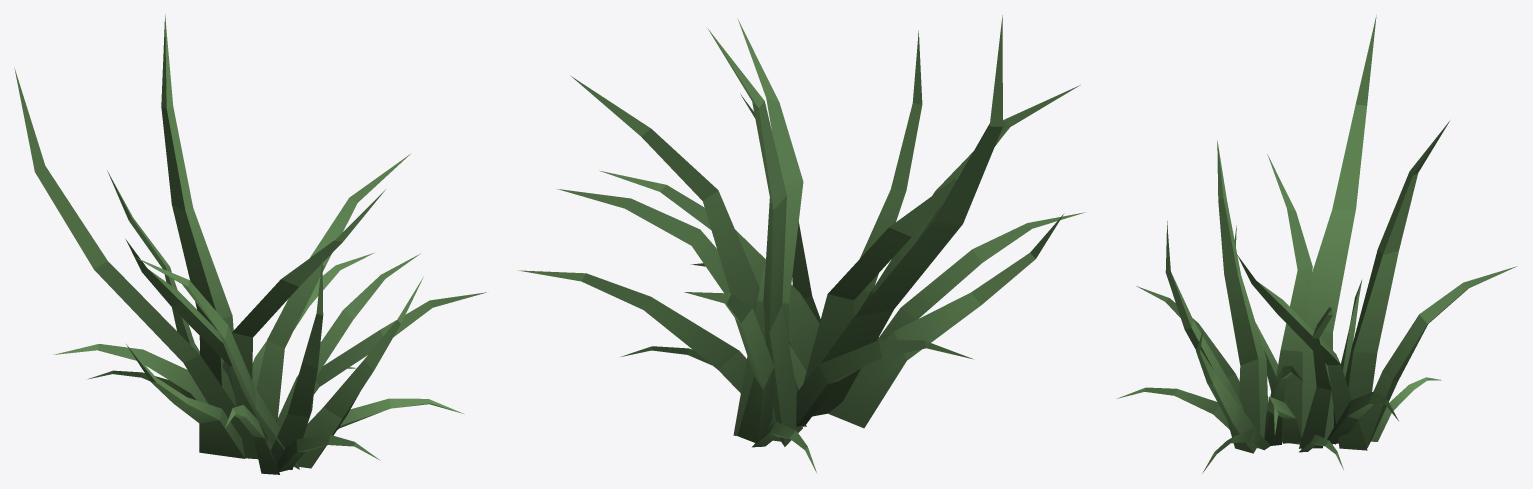
Rendered from Grass-01.FBX.
3 renders of one model, left to right at view 1: azimuth 30°, elevation 25°; view 2: azimuth 150°, elevation 25°; view 3: azimuth 270°, elevation 25°, orthographic. The views are drawn at different scales.
Parts seen in each view (by area): view 1: Grass-01; view 2: Grass-01; view 3: Grass-01.
Boxes of the visible parts, bbox=[...] form: Grass-01: bbox=[14, 14, 486, 474]; Grass-01: bbox=[518, 15, 1085, 472]; Grass-01: bbox=[1116, 15, 1517, 473].
Size of the model in its own units: 155 by 140 by 149.
1 material, 1 textured.
